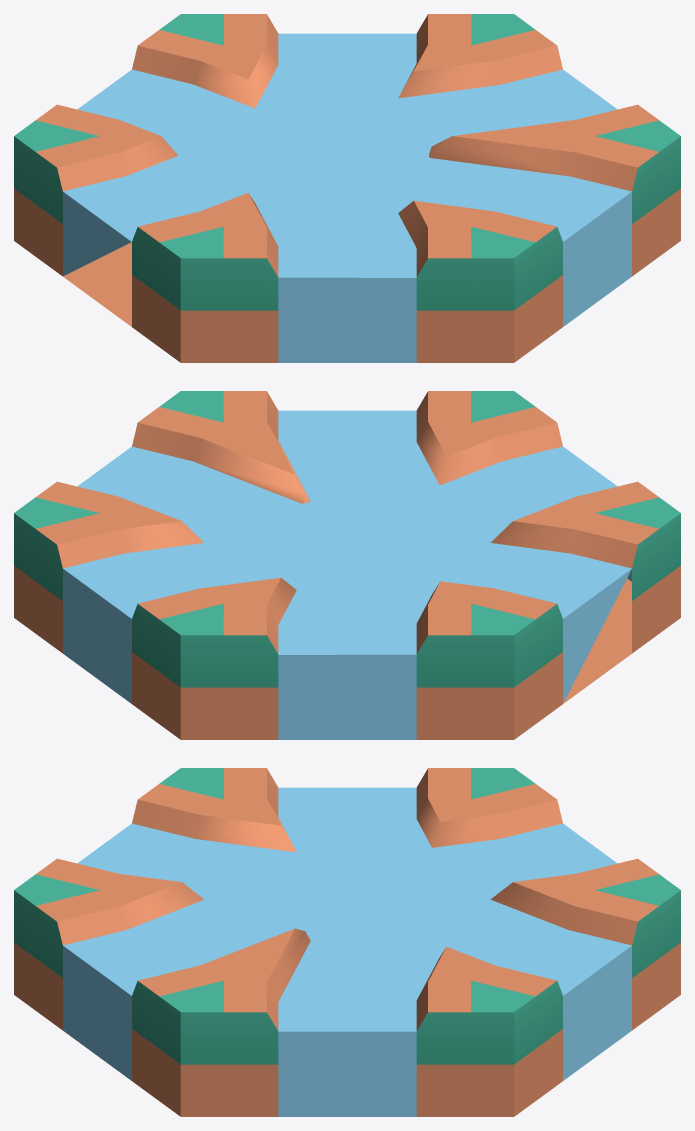
File: river-crossing.glb
The picture shows the model from 3 angles, top to bottom: view 1: azimuth 30°, elevation 25°; view 2: azimuth 150°, elevation 25°; view 3: azimuth 270°, elevation 25°; orthographic projection.
Parts seen in each view (by area): view 1: river-crossing; view 2: river-crossing; view 3: river-crossing.
Boxes of the visible parts, x1,y1,x2,y2 form: river-crossing: [14, 14, 680, 362]; river-crossing: [14, 391, 680, 739]; river-crossing: [14, 768, 680, 1116].
Bounding box in the file's own units: 1 × 0.2 × 1.15.
1 material, 1 textured.
